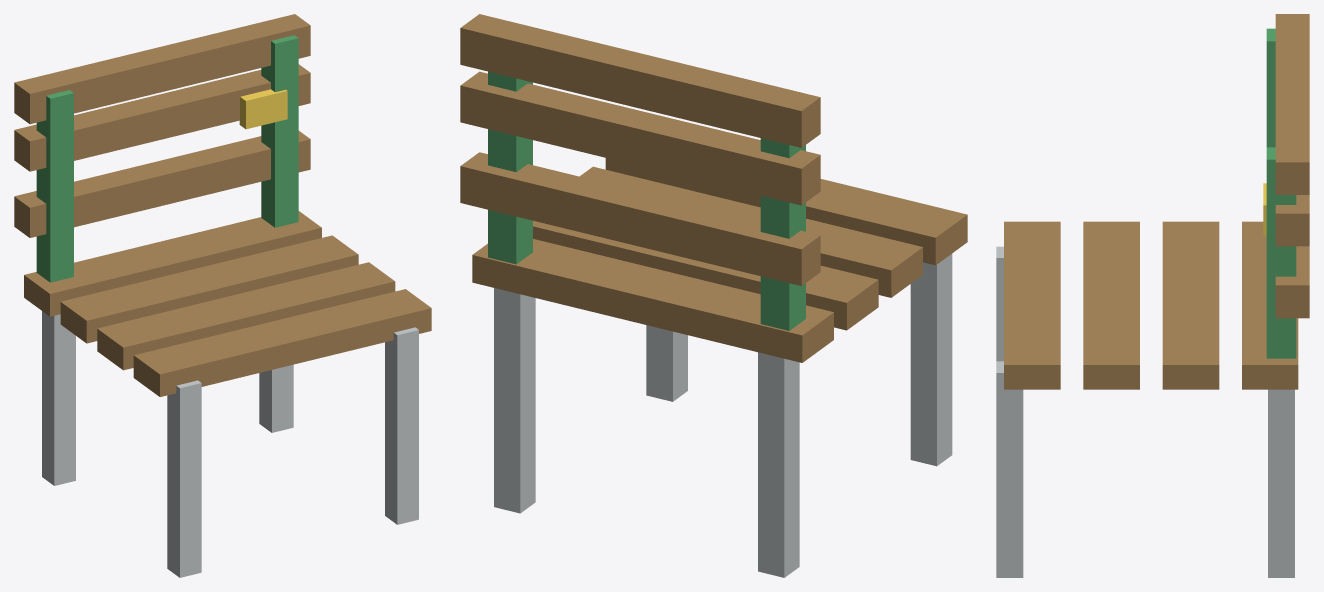
Rendered from CYCLE-024.glb.
3 views of the same model, side by side, from view 1: azimuth 30°, elevation 25°; view 2: azimuth 150°, elevation 25°; view 3: azimuth 270°, elevation 25° (orthographic). The views are drawn at different scales.
Visible parts, largest first — view 1: CYCLE-024; view 2: CYCLE-024; view 3: CYCLE-024.
Boxes of the visible parts, box(x1,y1,x2,y2) form: CYCLE-024: box(14, 14, 431, 577); CYCLE-024: box(460, 14, 967, 577); CYCLE-024: box(996, 14, 1309, 577).
Size of the model in its own units: 1.55 by 2.08 by 1.38.
